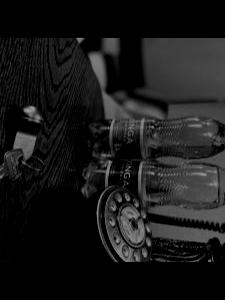bottle: (76, 157, 225, 214), (82, 112, 225, 166)
